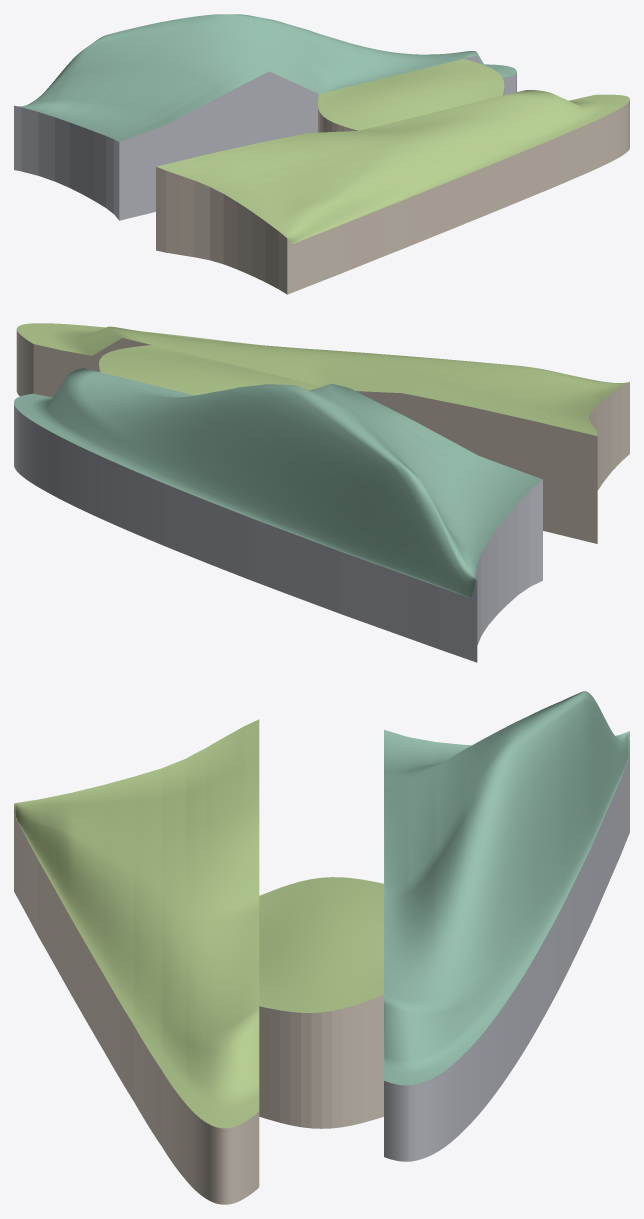
The model's file is loop-parts.glb.
3 renders of one model, top to bottom at view 1: azimuth 30°, elevation 25°; view 2: azimuth 150°, elevation 25°; view 3: azimuth 270°, elevation 25°, orthographic. The views are drawn at different scales.
Parts seen in each view (by area): view 1: east/top, north/top, east/coastal-bank, north/coastal-bank, connection/top; view 2: north/top, north/coastal-bank, east/top, east/coastal-bank, connection/top; view 3: north/top, east/top, north/coastal-bank, east/coastal-bank, connection/top, connection/coastal-bank.
Part boxes in pixels (bbox=[...]): east/top: bbox=[156, 90, 629, 244]; north/top: bbox=[18, 14, 516, 141]; east/coastal-bank: bbox=[156, 100, 629, 294]; north/coastal-bank: bbox=[14, 55, 516, 220]; connection/top: bbox=[318, 59, 504, 130]; north/top: bbox=[14, 368, 542, 597]; north/coastal-bank: bbox=[14, 404, 542, 662]; east/top: bbox=[17, 323, 628, 435]; east/coastal-bank: bbox=[16, 329, 629, 543]; connection/top: bbox=[99, 345, 321, 395]; north/top: bbox=[384, 691, 629, 1085]; east/top: bbox=[14, 719, 259, 1128]; north/coastal-bank: bbox=[384, 734, 629, 1161]; east/coastal-bank: bbox=[14, 805, 259, 1204]; connection/top: bbox=[259, 877, 383, 1012]; connection/coastal-bank: bbox=[259, 994, 383, 1128].
Bounding box in the file's own units: 9.26 × 2.59 × 6.47.
